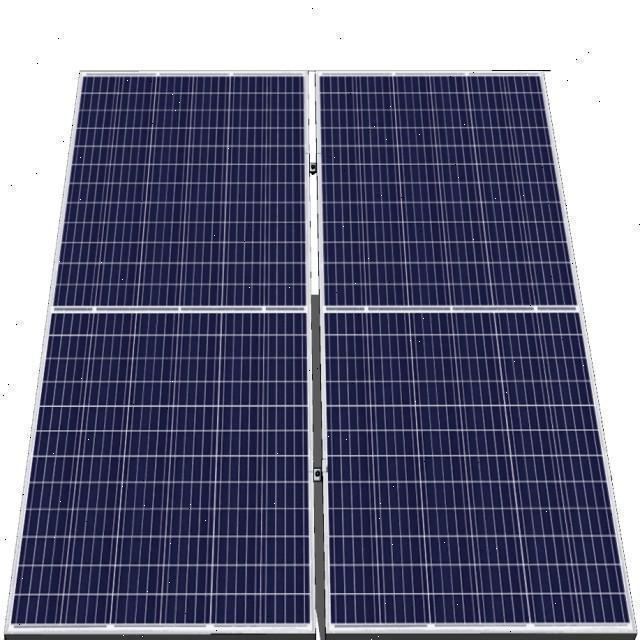Normal Solar Panel: (6, 68, 630, 628)
